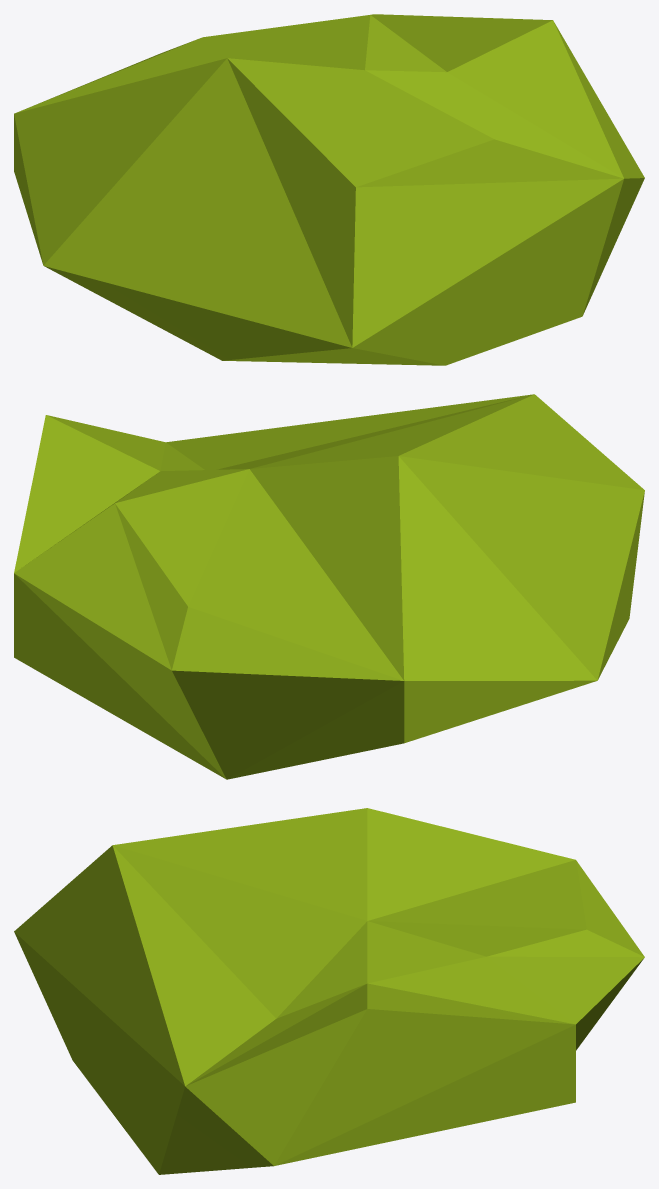
File: Vegetation_Modular_Tree_Foliage_Clump_Large_02.fbx
3 renders of one model, top to bottom at view 1: azimuth 30°, elevation 25°; view 2: azimuth 150°, elevation 25°; view 3: azimuth 270°, elevation 25°, orthographic. The views are drawn at different scales.
Parts seen in each view (by area): view 1: Vegetation_Modular_Tree_Foliage_Clump_Large_02; view 2: Vegetation_Modular_Tree_Foliage_Clump_Large_02; view 3: Vegetation_Modular_Tree_Foliage_Clump_Large_02.
Part boxes in pixels (left/top/right/bottom): Vegetation_Modular_Tree_Foliage_Clump_Large_02: left=14, top=14, right=644, bottom=365; Vegetation_Modular_Tree_Foliage_Clump_Large_02: left=14, top=394, right=644, bottom=779; Vegetation_Modular_Tree_Foliage_Clump_Large_02: left=14, top=808, right=644, bottom=1174.
Size of the model in its own units: 4352 by 1890 by 4276.
